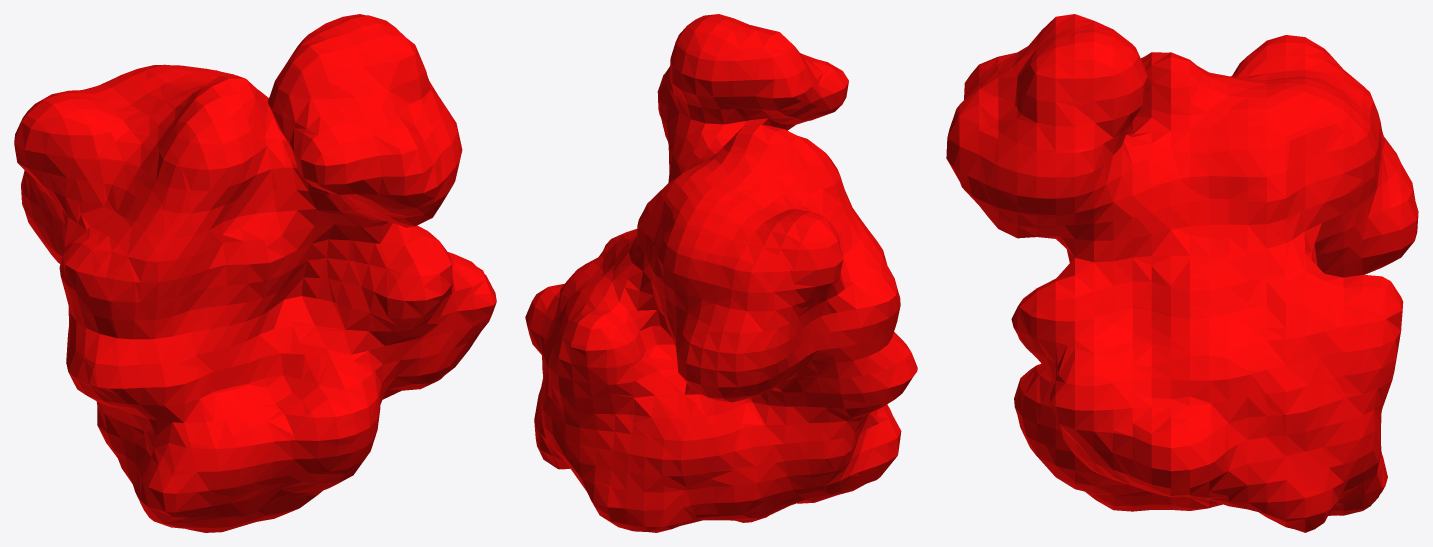
The model's file is icd_coarse.dae.
3 renders of one model, left to right at view 1: azimuth 30°, elevation 25°; view 2: azimuth 150°, elevation 25°; view 3: azimuth 270°, elevation 25°, orthographic. The views are drawn at different scales.
Parts seen in each view (by area): view 1: icd; view 2: icd; view 3: icd.
Part boxes in pixels (x1,y1,x2,y2): icd: [14, 14, 496, 532]; icd: [525, 14, 917, 532]; icd: [946, 14, 1418, 532].
Bounding box in the file's own units: 63.54 × 71.4 × 59.63.
